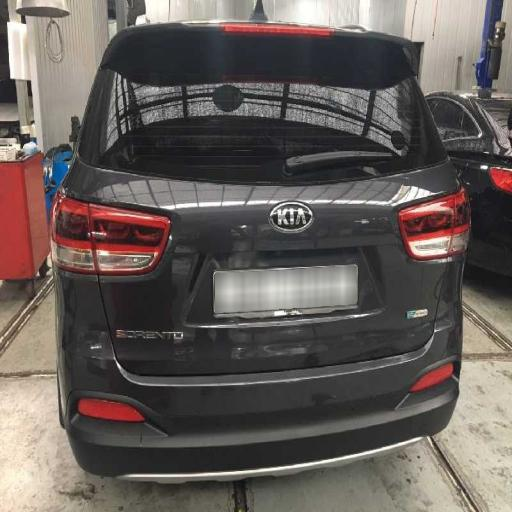dent: (162, 202, 241, 310)
scratch: (114, 288, 447, 373)
